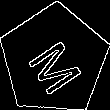M_NE: (21, 27, 87, 93)
